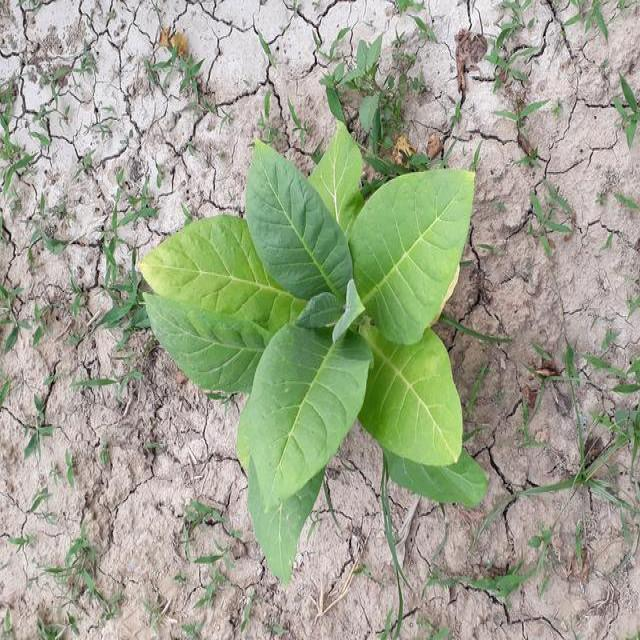crop: (139, 108, 494, 580)
